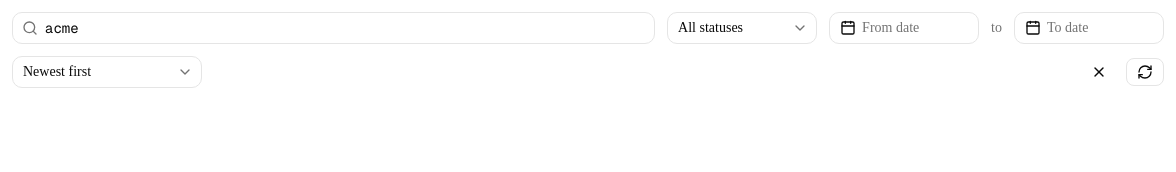
Test case: InvoicesToolbar › enables clear filters and resets keyword when a filter is active
Click the button named "Clear filters". click: (1099, 72)
box: left=1080, top=58, right=1118, bottom=86
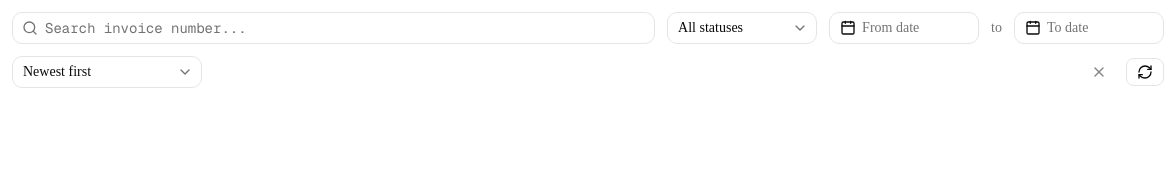
Result: the field named "Search invoices" is empty at left=12, top=12, right=655, bottom=44
